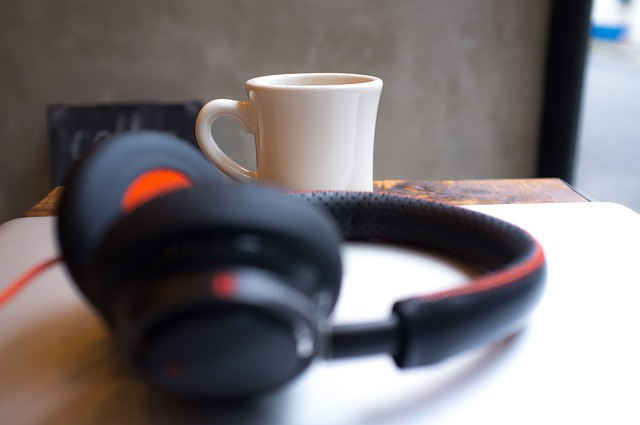headphones: (53, 131, 547, 406)
